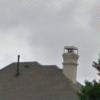Chimney: (56, 41, 78, 76)
